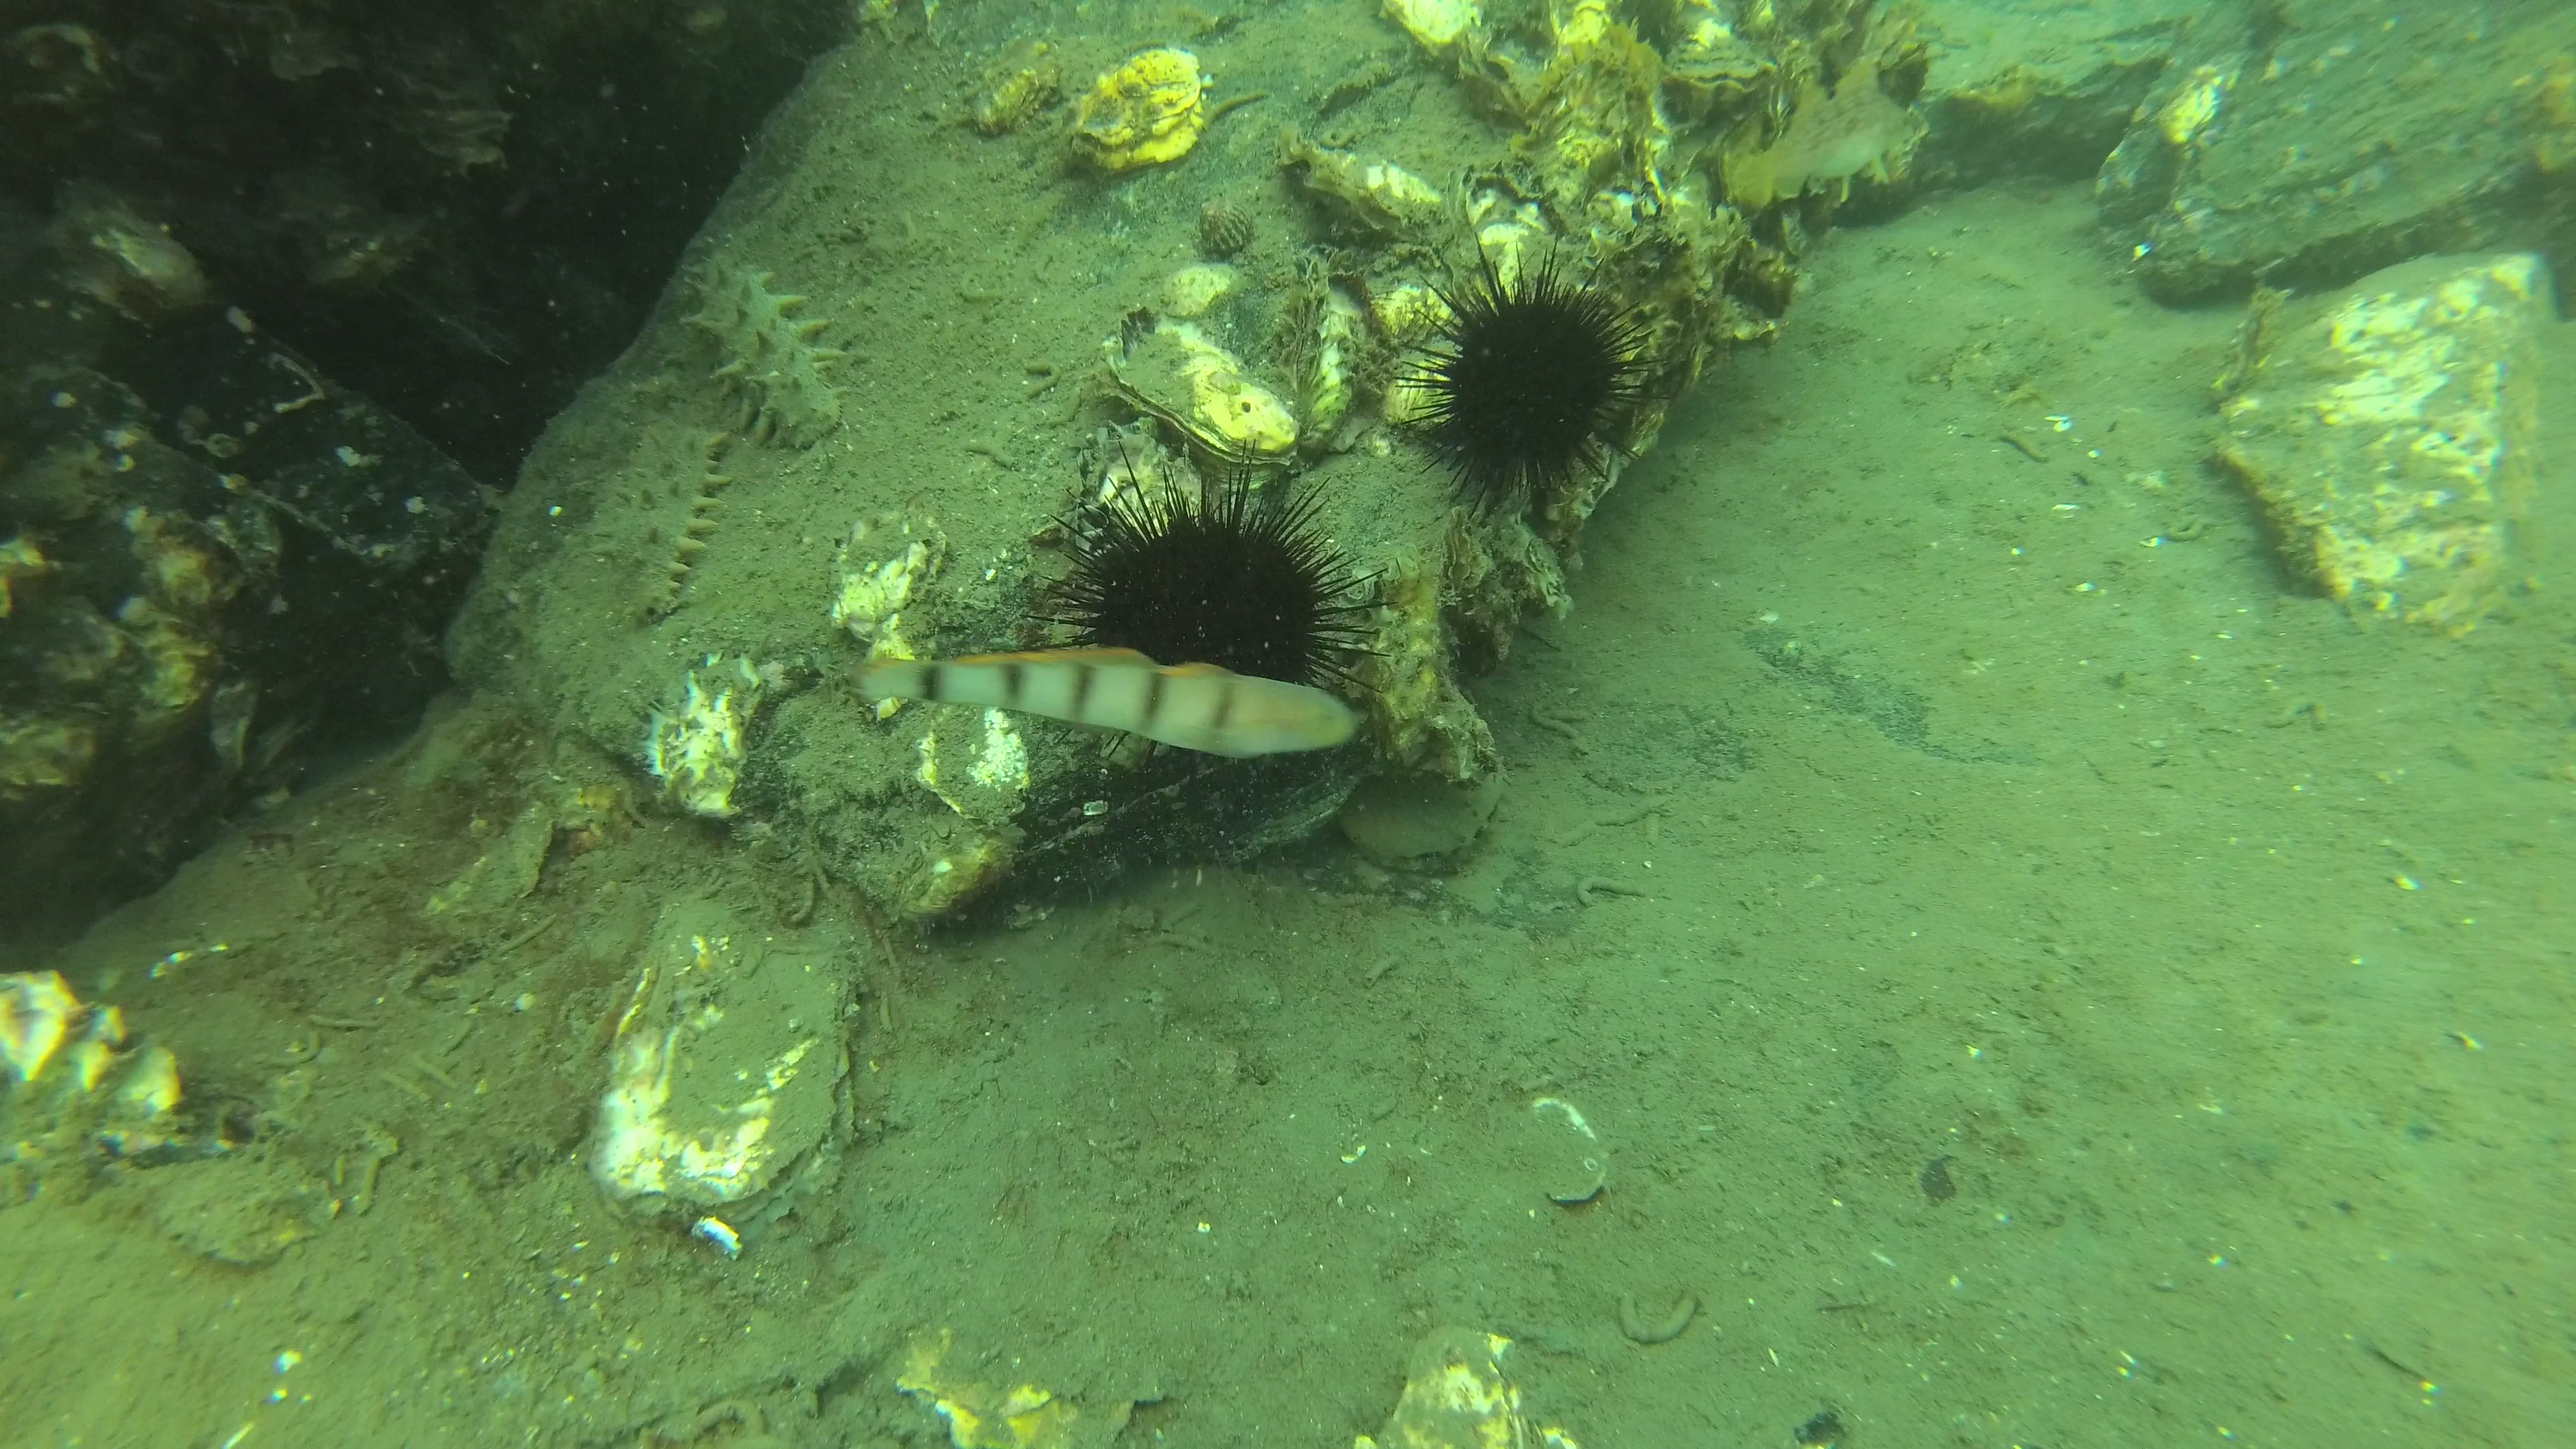echinus: (1035, 448, 1369, 708), (1407, 230, 1660, 529)
holothurian: (669, 239, 855, 456), (589, 425, 741, 628)
